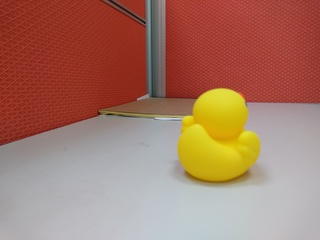duck: (173, 82, 264, 186)
